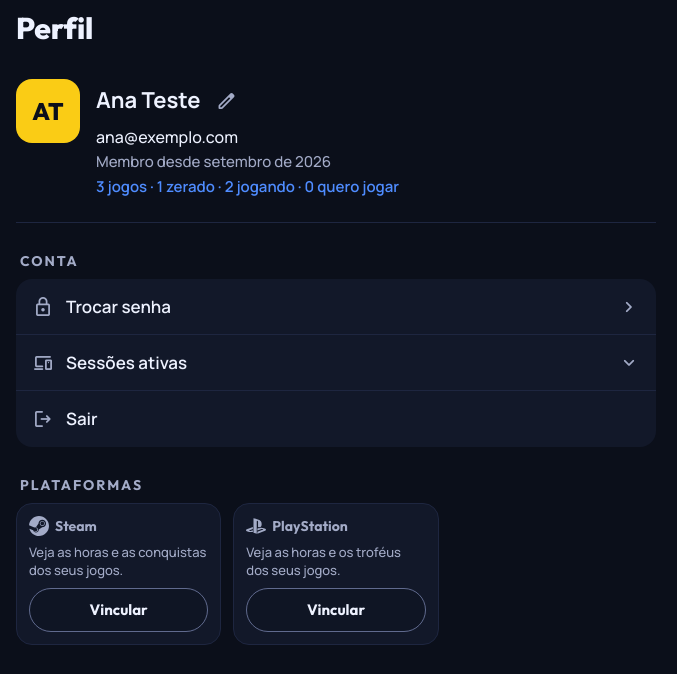
Scenario: nome editável (CA-04) › Esc cancela SEM request: o nome continua o mesmo e o foco volta ao Editar
Click the button named "Editar nome" at (226, 101), box [204,79,248,123]
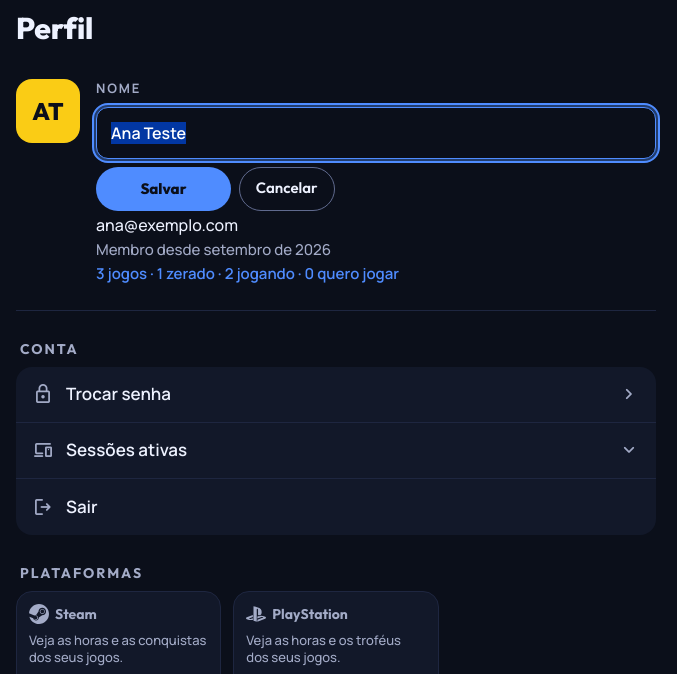
Type " mudado" into the field labelled "Nome" at (376, 132), box [96,106,656,158]
Then press Escape
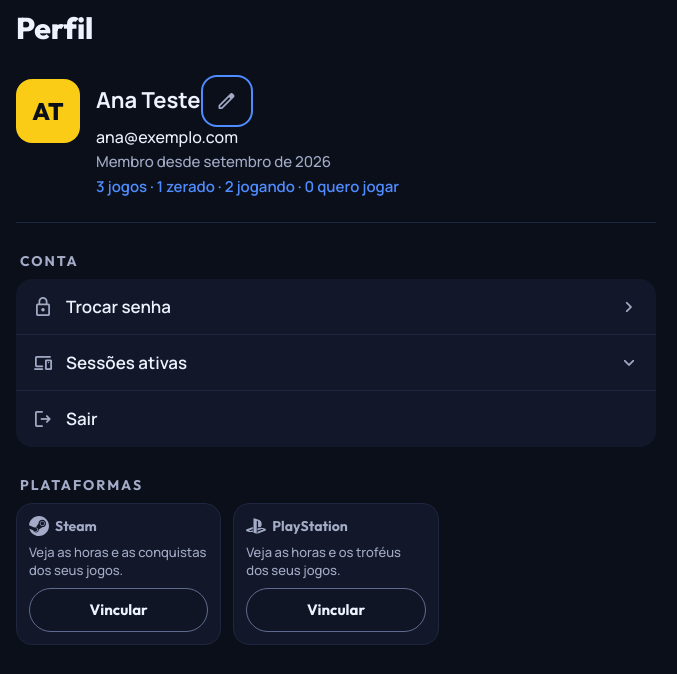
Now the label labelled "Nome" is gone
Now the heading "Ana Teste" is shown, box [96,87,200,115]
